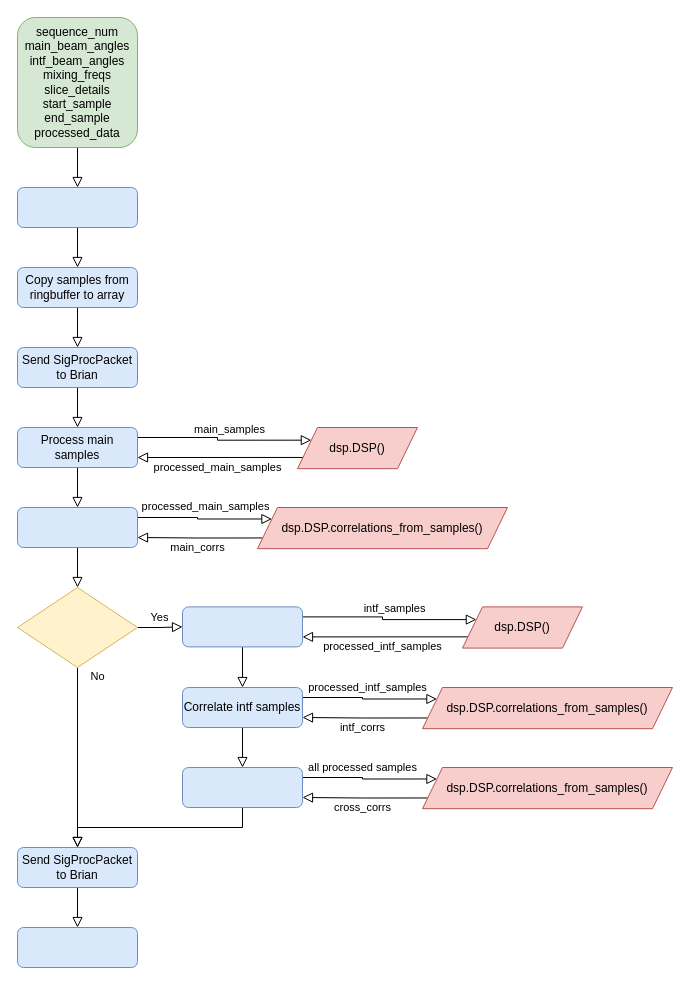
This 690x985 diagram has some shape labels left out. Each missing label, with the box of its shape:
Correlate main samples: (16, 506, 138, 548)
Create sockets: (16, 186, 138, 228)
Cross-correlate main and intf samples: (182, 766, 302, 808)
intf present?: (16, 586, 138, 668)
Process intf samples: (182, 606, 302, 647)
Send ProcessedData to DataWrite: (16, 926, 138, 968)
